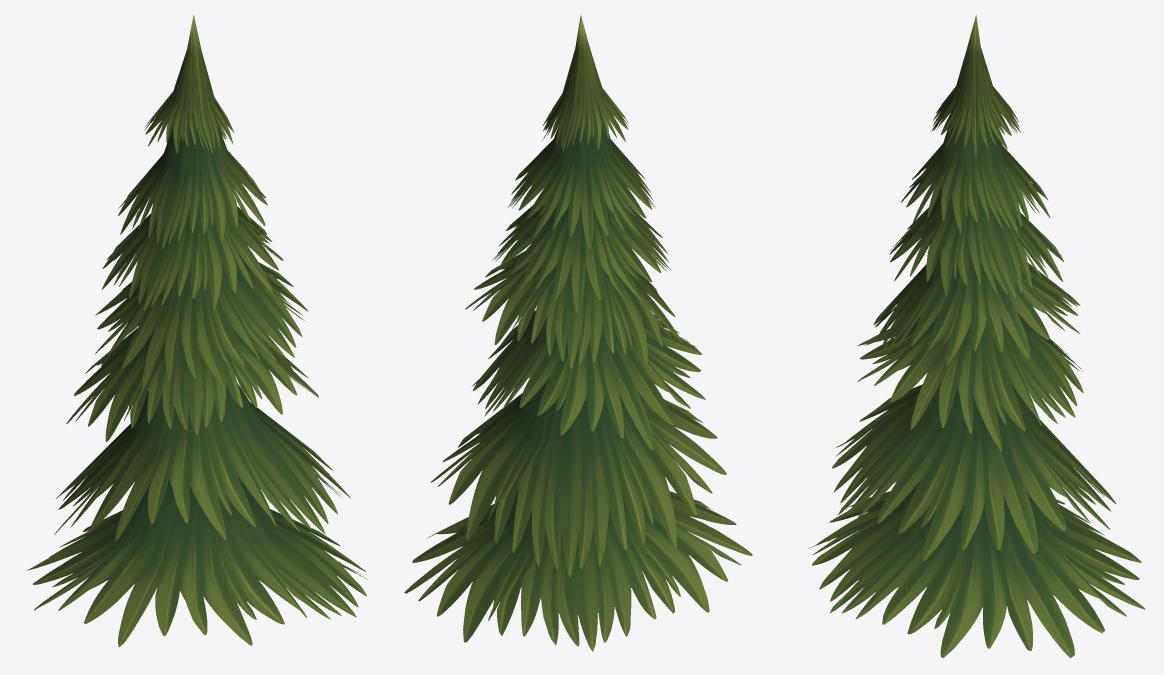
The model's file is Pine Leaves #3 double sided.fbx.
3 renders of one model, left to right at view 1: azimuth 30°, elevation 25°; view 2: azimuth 150°, elevation 25°; view 3: azimuth 270°, elevation 25°, orthographic. The views are drawn at different scales.
Parts seen in each view (by area): view 1: Pine Leaves #004; view 2: Pine Leaves #004; view 3: Pine Leaves #004.
Part boxes in pixels (<box>): Pine Leaves #004: <box>26,15,367,646</box>; Pine Leaves #004: <box>404,14,752,651</box>; Pine Leaves #004: <box>808,14,1145,658</box>.
Size of the model in its own units: 243 by 437 by 242.
1 material, 1 textured.
